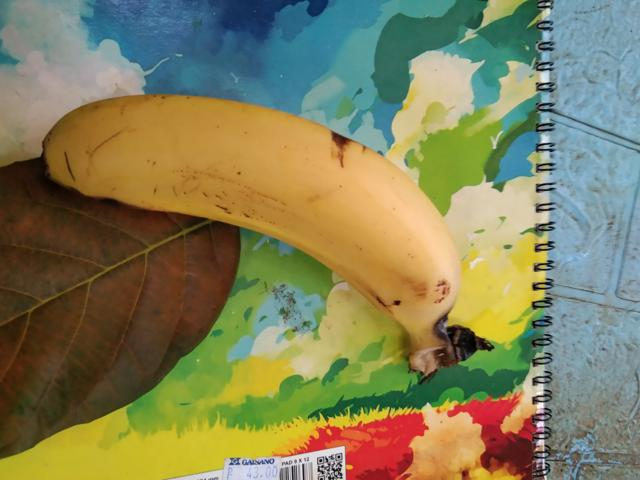freshripe: (32, 85, 460, 340)
